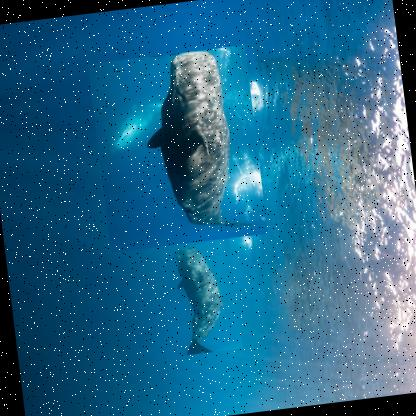sperm_whale: (86, 44, 266, 254), (124, 238, 242, 362)
